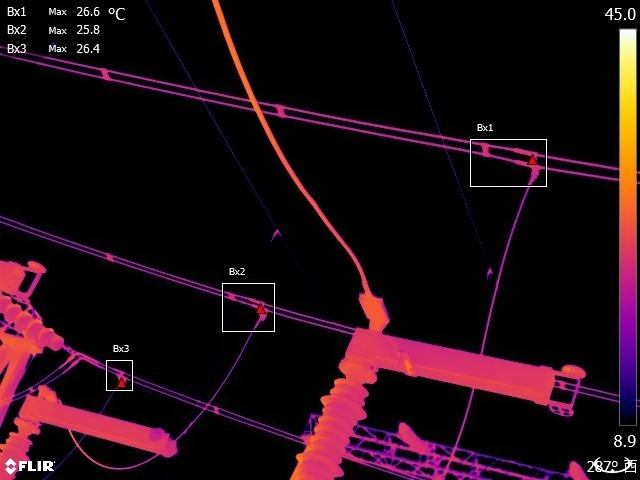clamp: (523, 147, 553, 184), (249, 294, 280, 329), (60, 346, 86, 375), (113, 367, 134, 391)
insulator: (1, 292, 65, 354)
post insulator: (282, 372, 377, 480), (1, 419, 44, 480)
switch: (344, 312, 595, 421), (18, 381, 180, 462)
